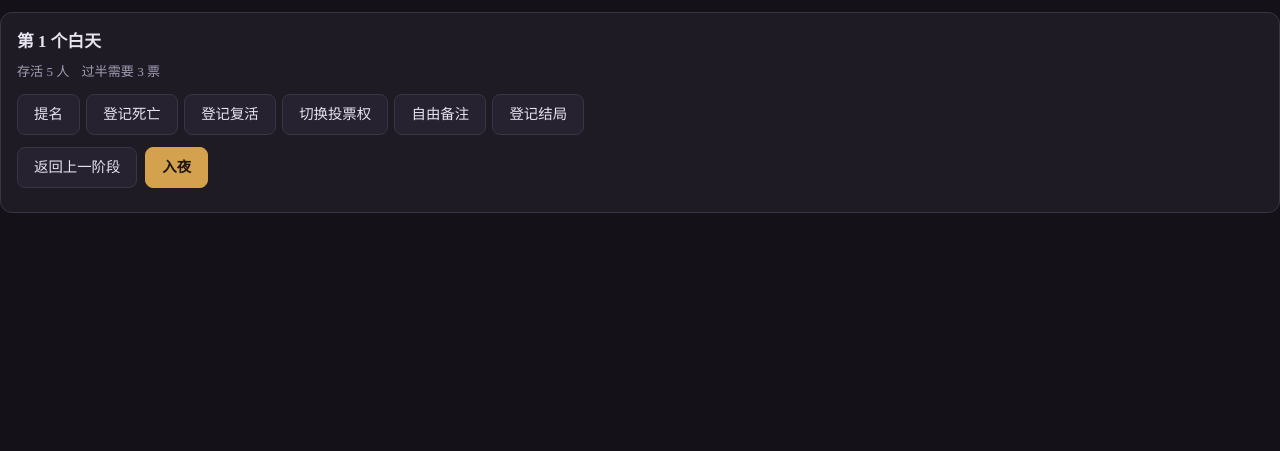
DayPanel（白天面板） › 登记结局后进入 ended 阶段并显示复盘导出
Click the button "登记结局" at (538, 114), box [492,94,584,135]
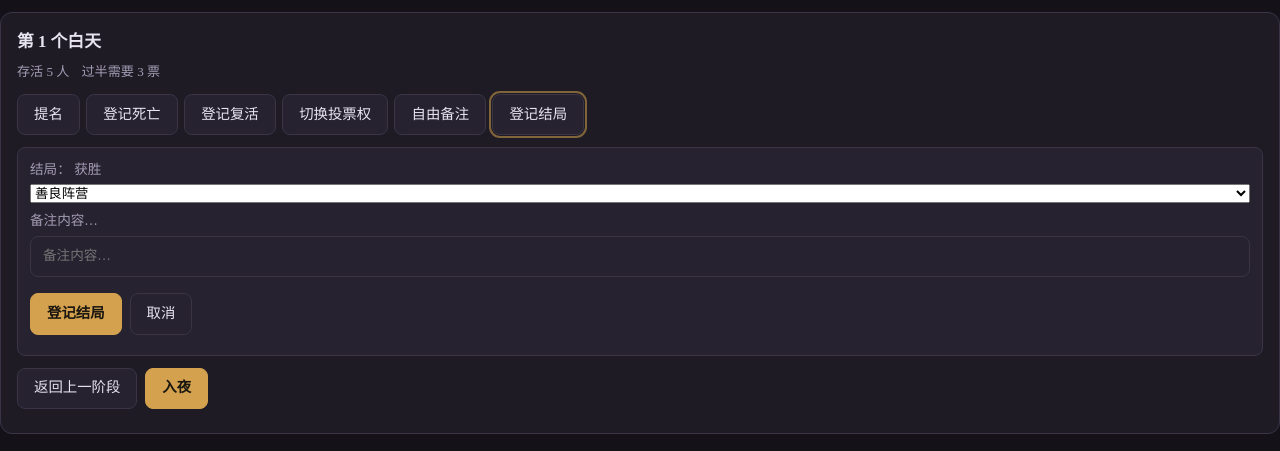
Select "邪恶阵营" in the dropdown labelled "结局： 获胜" at (640, 194), box [30,184,1250,204]
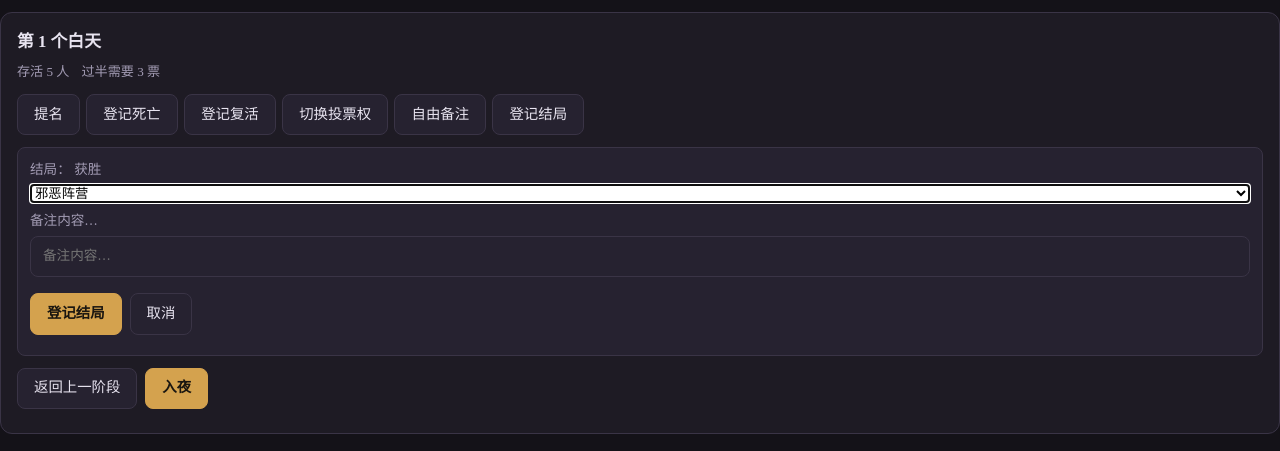
Click the button "登记结局" below "备注内容…" at (76, 314), box [30,293,122,335]
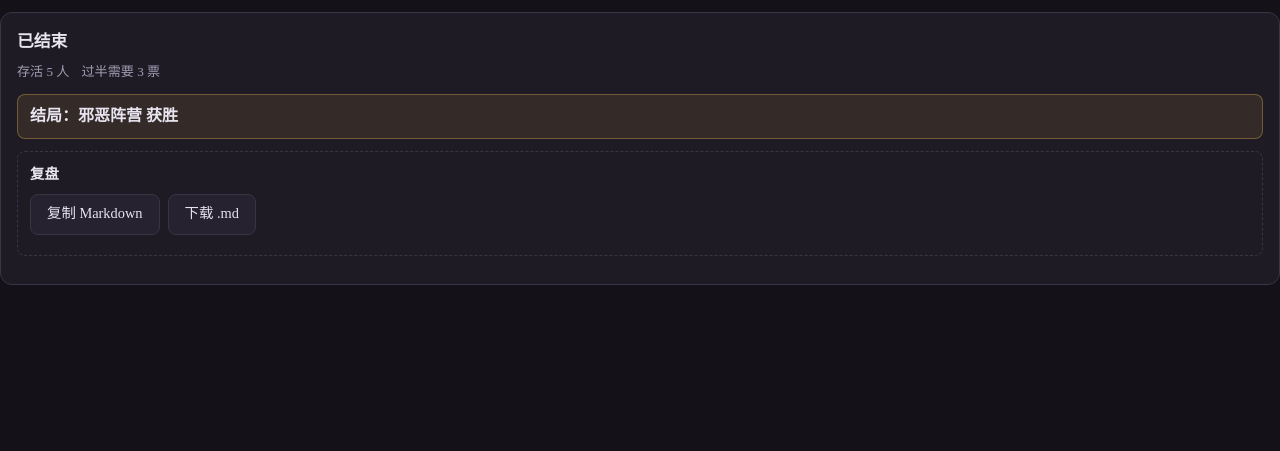
Expected: the button "复制 Markdown" is shown, [30,194,160,235]
Expected: the button "下载 .md" is shown, [168,194,256,235]
